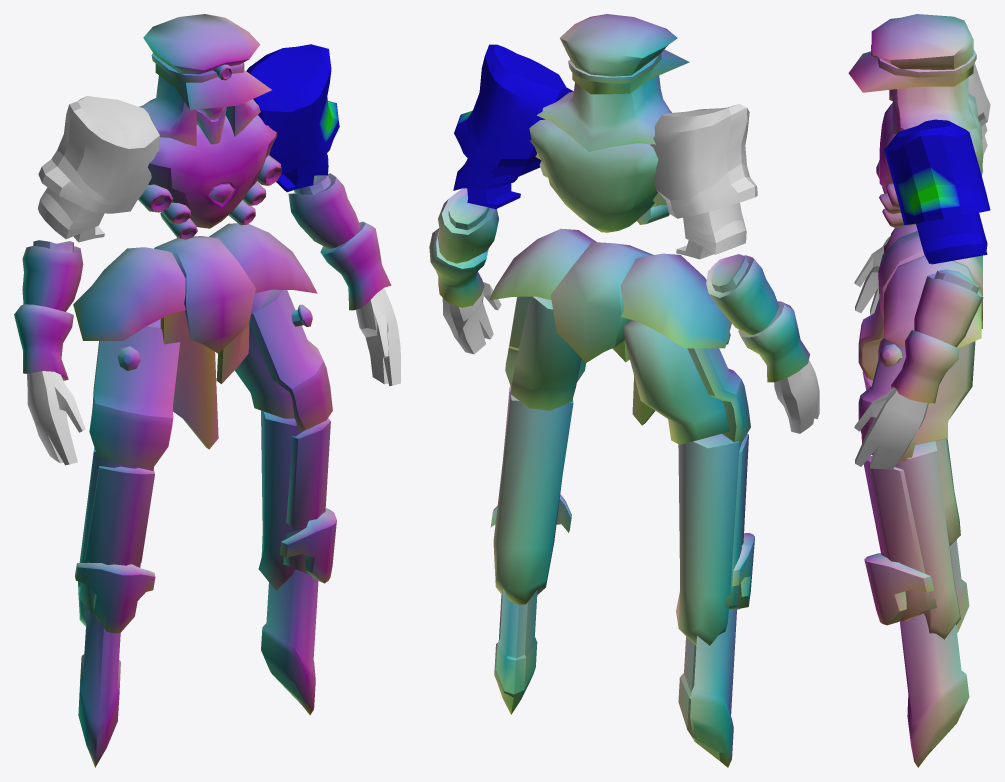
The model's file is Meca_1_Marine_ANime.fbx.
The picture shows the model from 3 angles, left to right: view 1: azimuth 30°, elevation 25°; view 2: azimuth 150°, elevation 25°; view 3: azimuth 270°, elevation 25°; orthographic projection. The views are drawn at different scales.
Parts seen in each view (by area): view 1: M1_Pelvis, M1_Leg.L, M1_Leg.R, M1_Shoulder.R, M1_Head, M1_Torso, M1_Thigh.R, M1_Shoulder.L, M1_Thigh.L, M1_Arm.R, M1_Arm.L, M1_Hand.R (+1 smaller); view 2: M1_Leg.R, M1_Pelvis, M1_Leg.L, M1_Head, M1_Shoulder.R, M1_Shoulder.L, M1_Thigh.R, M1_Torso, M1_Arm.R, M1_Thigh.L, M1_Arm.L, M1_Hand.R (+1 smaller); view 3: M1_Leg.L, M1_Shoulder.L, M1_Head, M1_Arm.L, M1_Pelvis, M1_Thigh.L, M1_Hand.L, M1_Leg.R, M1_Torso, M1_Thigh.R, M1_Hand.R, M1_Shoulder.R.
Boxes of the visible parts, x1=… form: M1_Pelvis: x1=73, y1=223, x2=317, y2=449; M1_Leg.L: x1=258, y1=410, x2=336, y2=715; M1_Leg.R: x1=75, y1=448, x2=155, y2=767; M1_Shoulder.R: x1=38, y1=95, x2=159, y2=242; M1_Head: x1=139, y1=14, x2=271, y2=146; M1_Torso: x1=138, y1=115, x2=281, y2=239; M1_Thigh.R: x1=89, y1=319, x2=180, y2=467; M1_Shoulder.L: x1=246, y1=44, x2=339, y2=192; M1_Thigh.L: x1=235, y1=289, x2=332, y2=430; M1_Arm.R: x1=14, y1=240, x2=83, y2=380; M1_Arm.L: x1=288, y1=173, x2=391, y2=310; M1_Hand.R: x1=27, y1=371, x2=85, y2=465; M1_Leg.R: x1=676, y1=433, x2=754, y2=767; M1_Pelvis: x1=489, y1=228, x2=731, y2=425; M1_Leg.L: x1=490, y1=386, x2=573, y2=714; M1_Head: x1=537, y1=14, x2=689, y2=151; M1_Shoulder.R: x1=650, y1=104, x2=757, y2=259; M1_Shoulder.L: x1=453, y1=44, x2=573, y2=209; M1_Thigh.R: x1=624, y1=320, x2=750, y2=444; M1_Torso: x1=529, y1=119, x2=669, y2=232; M1_Arm.R: x1=706, y1=254, x2=809, y2=382; M1_Thigh.L: x1=505, y1=296, x2=586, y2=410; M1_Arm.L: x1=429, y1=188, x2=498, y2=307; M1_Hand.R: x1=774, y1=360, x2=819, y2=433; M1_Leg.L: x1=863, y1=441, x2=969, y2=767; M1_Shoulder.L: x1=884, y1=119, x2=990, y2=264; M1_Head: x1=848, y1=14, x2=977, y2=134; M1_Arm.L: x1=891, y1=269, x2=983, y2=403; M1_Pelvis: x1=878, y1=224, x2=982, y2=348; M1_Thigh.L: x1=858, y1=338, x2=975, y2=461; M1_Hand.L: x1=854, y1=387, x2=928, y2=469; M1_Leg.R: x1=862, y1=372, x2=969, y2=632; M1_Torso: x1=876, y1=93, x2=982, y2=227; M1_Thigh.R: x1=858, y1=299, x2=883, y2=380; M1_Hand.R: x1=854, y1=235, x2=890, y2=314; M1_Shoulder.R: x1=968, y1=63, x2=990, y2=158.
Size of the model in its own units: 251 by 471 by 87.42.
